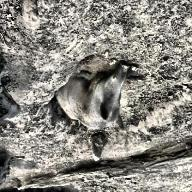boar: (51, 45, 145, 142)
